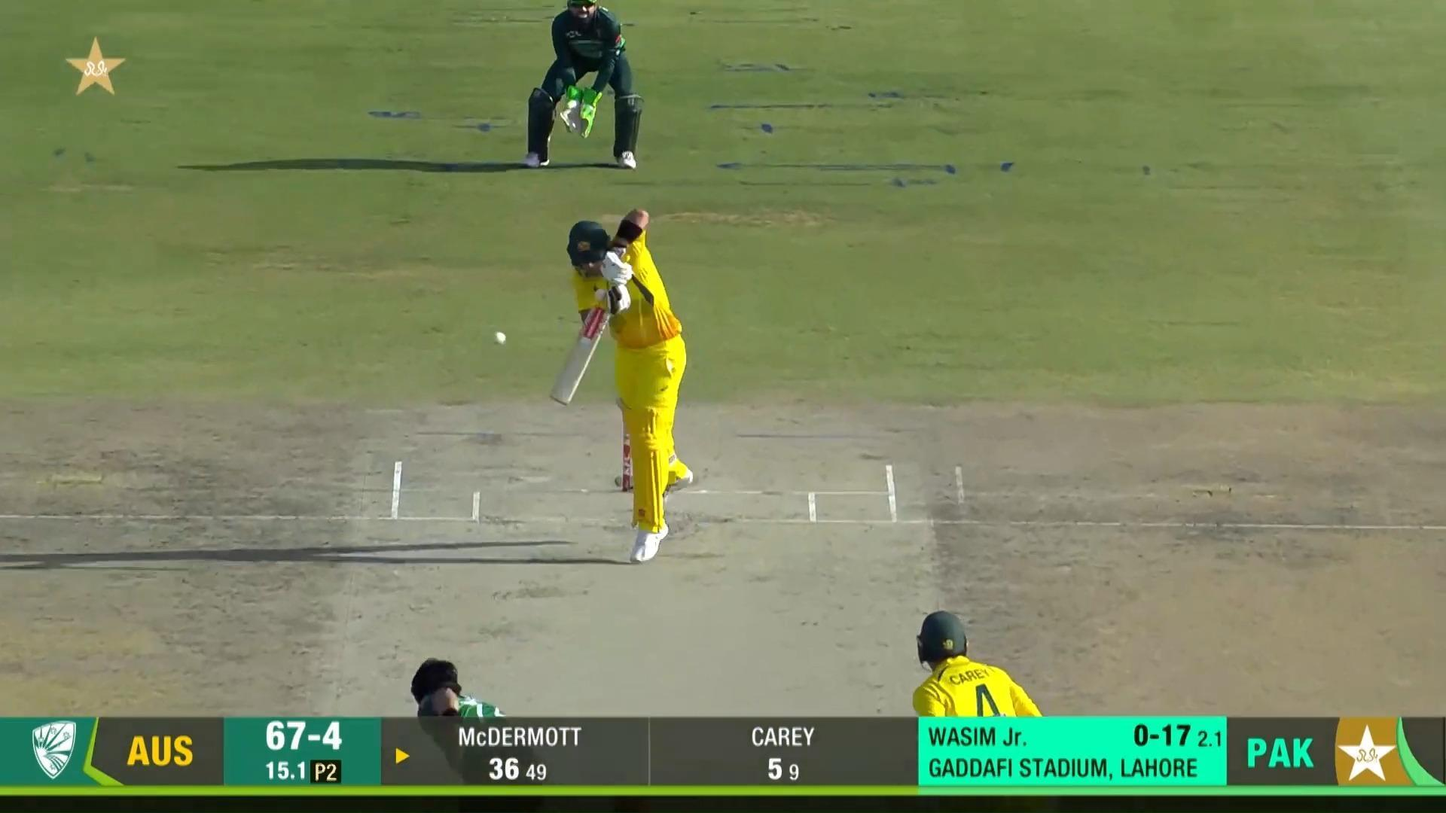BM 1: (545, 206, 690, 566)
BO: (409, 656, 548, 813)
